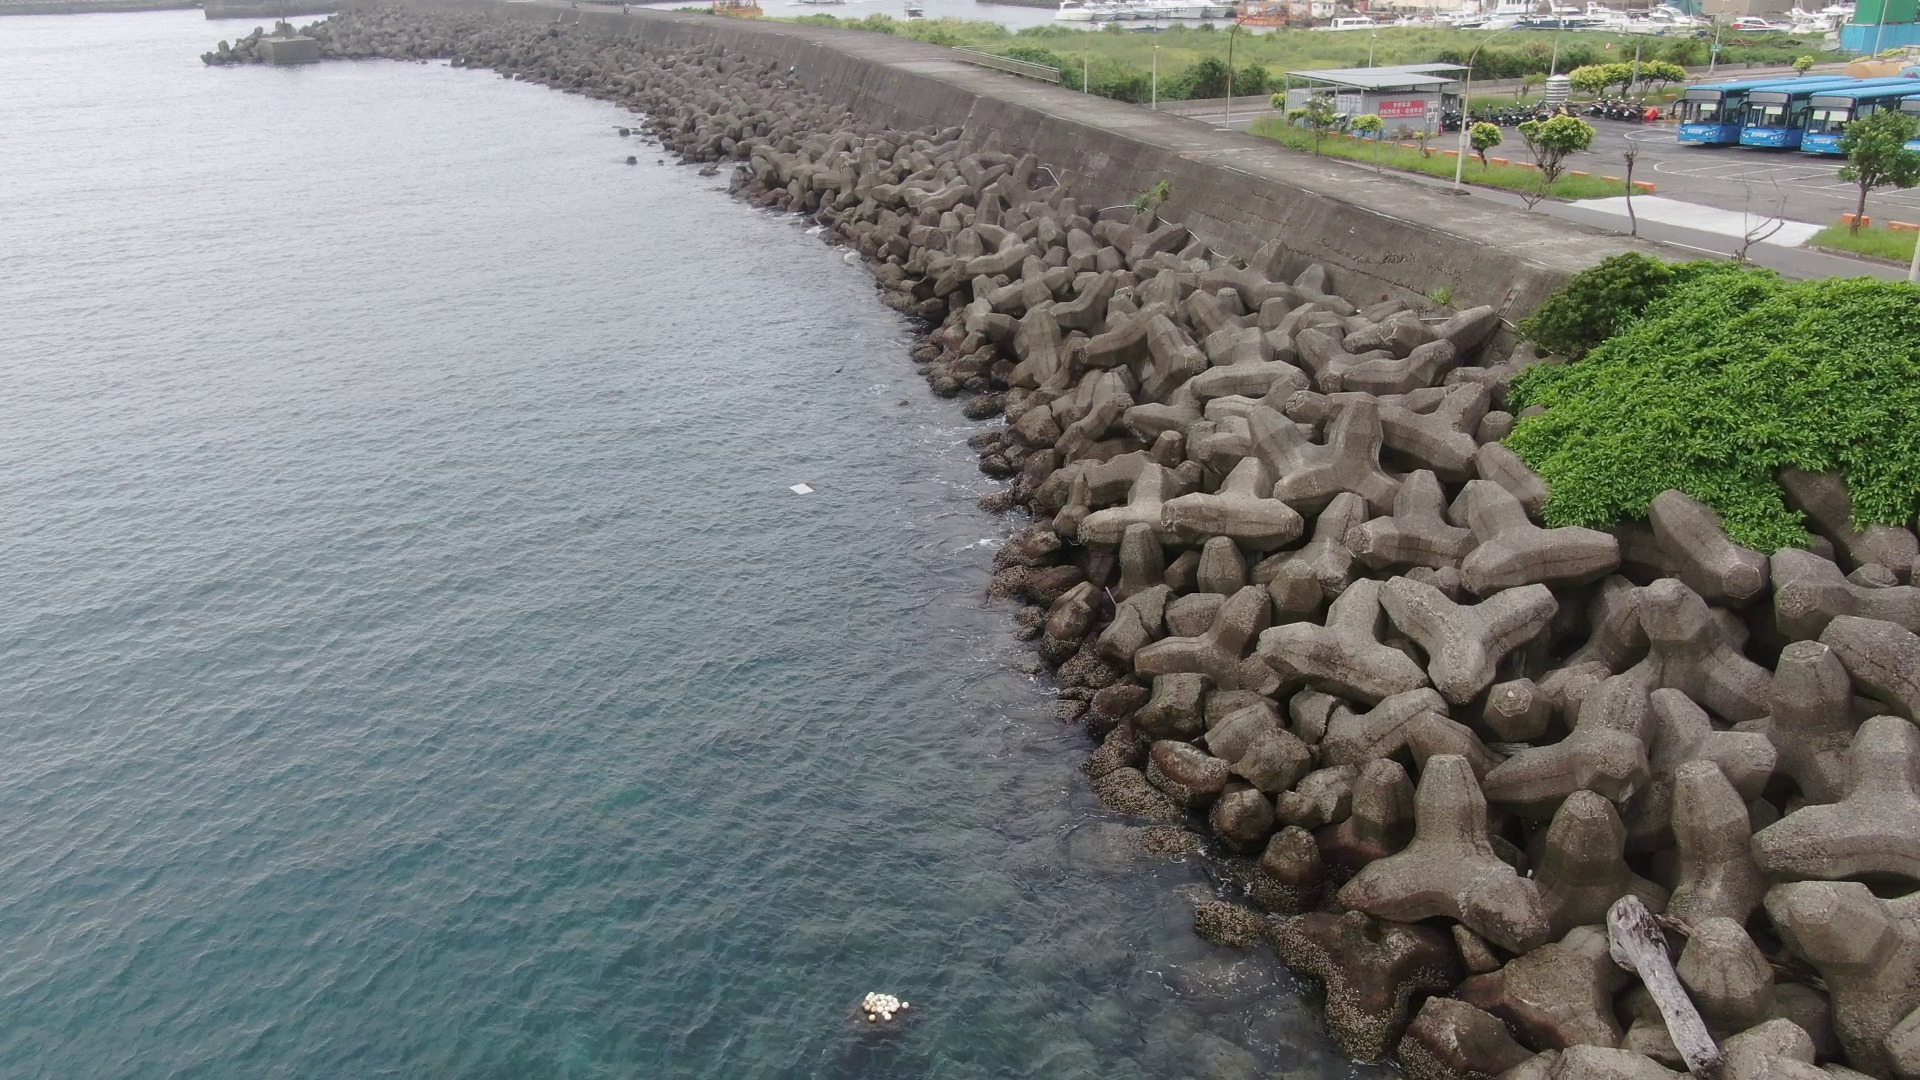garbage: (858, 981, 914, 1029), (786, 477, 814, 498)
